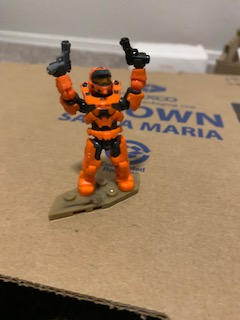pistol: (116, 34, 153, 68), (45, 38, 76, 77)
spartan: (51, 65, 151, 194)
up: (52, 64, 149, 126)
